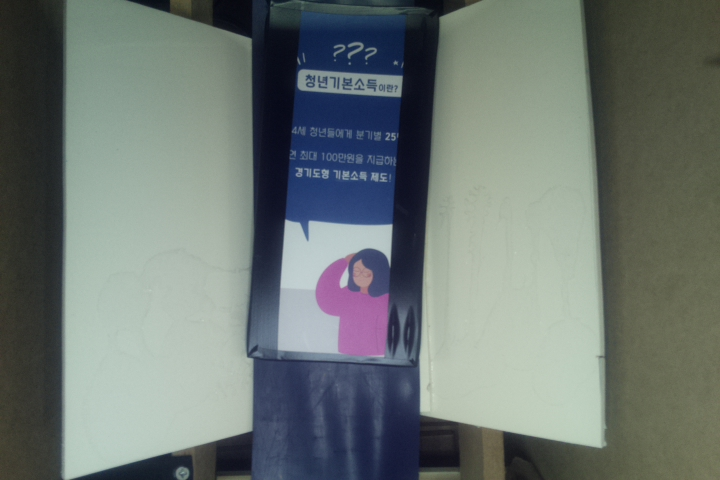book: (243, 1, 441, 367)
